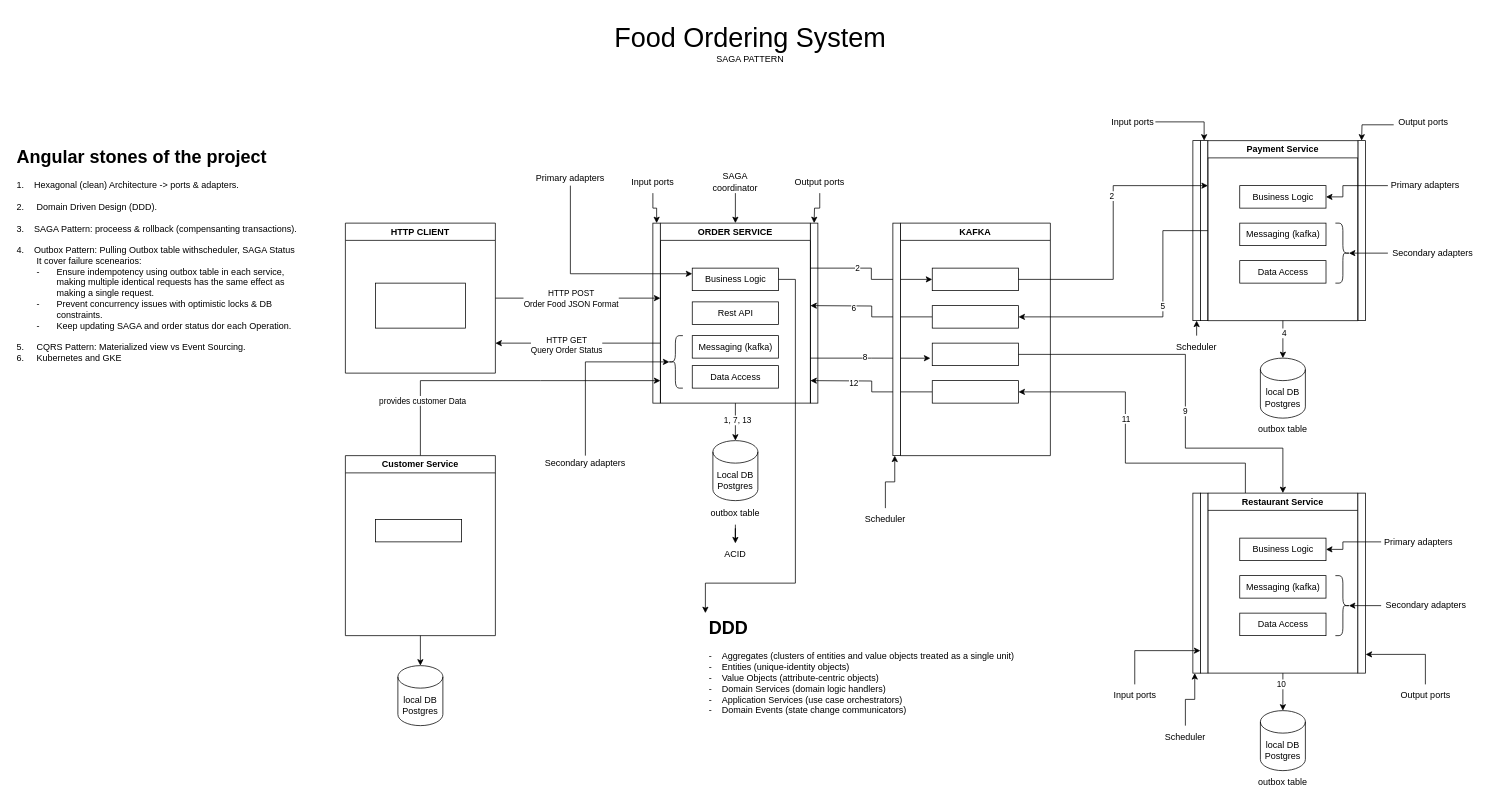
Image size: 1490x806. Some labels were removed from this diagram. The shapes that lost their labels are listed below. From the top down, each one's centre as x and y in pixels, then its label:
the point at 975,279: Payment-request Topic
the point at 420,305: Postman
the point at 975,316: Payment-response Topic
the point at 975,354: restaurant-approval request topic
the point at 975,391: restaurant-approval response topic
the point at 418,530: Materialized view CQRS & Messaging
